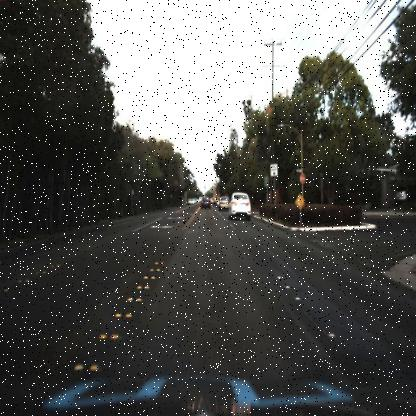car: (226, 190, 254, 223), (217, 193, 232, 212), (200, 193, 213, 211)
